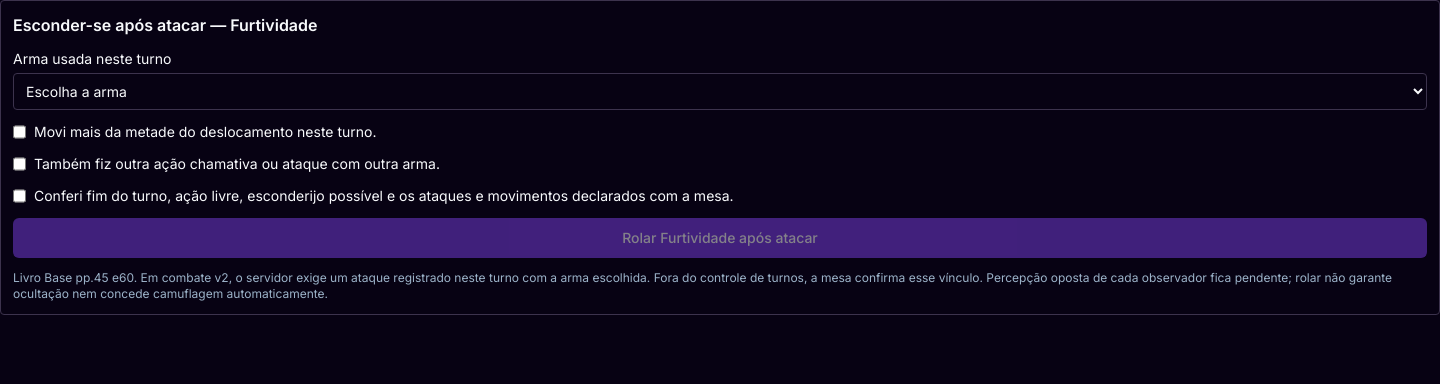
Test case: Furtividade após ataque › mudar contexto exige nova confirmação e não concede ocultação automática
Select "Pistola QA" in the dropdown labelled "Arma usada neste turno". click: coordinates (720, 92)
box: [13, 73, 1427, 110]
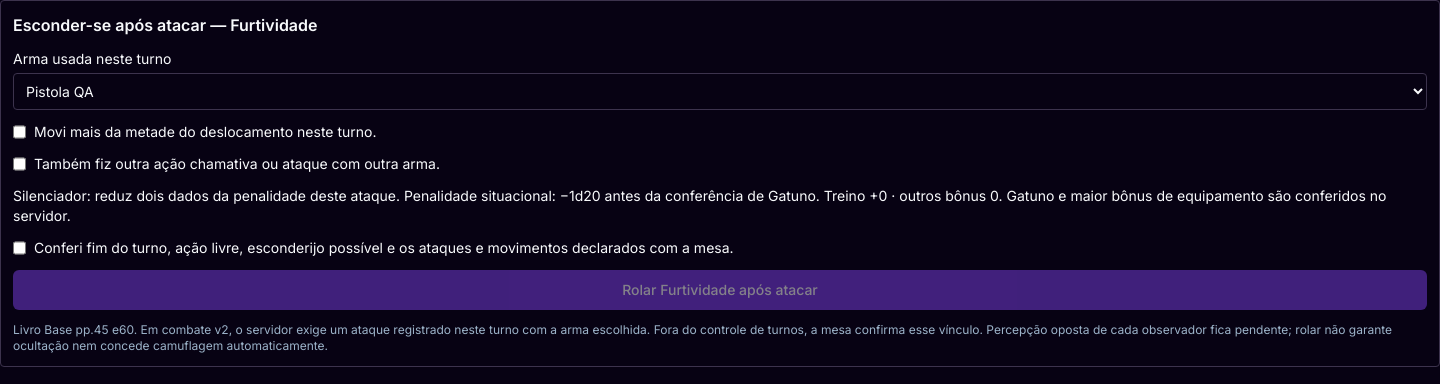
Click the checkbox named "Conferi fim do turno, ação livre, esconderijo possível e os ataques e movimentos declarados com a mesa.". click: coordinates (20, 248)
box: [13, 238, 26, 258]
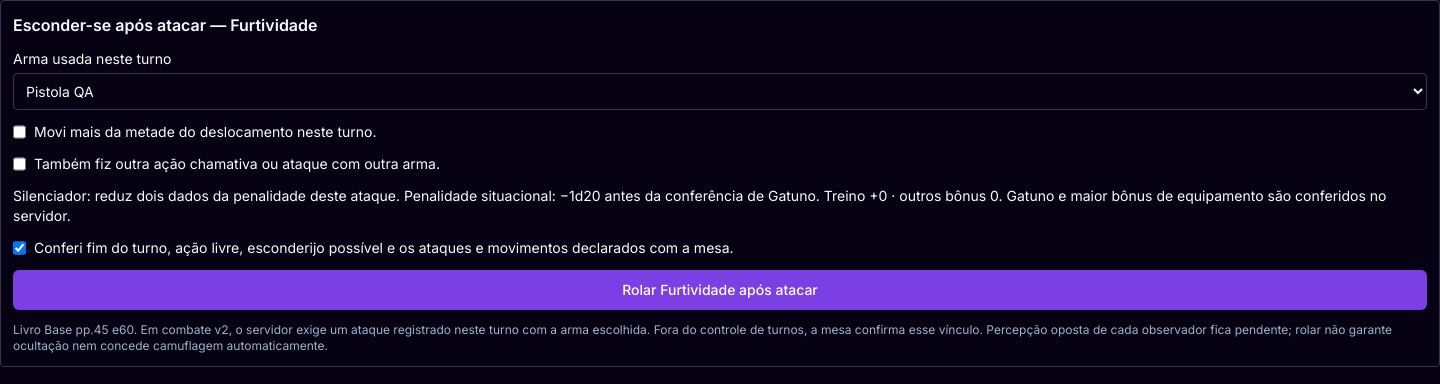
Click the checkbox labelled "Também fiz outra ação chamativa ou ataque com outra arma.". click: coordinates (20, 164)
box: [13, 154, 26, 174]
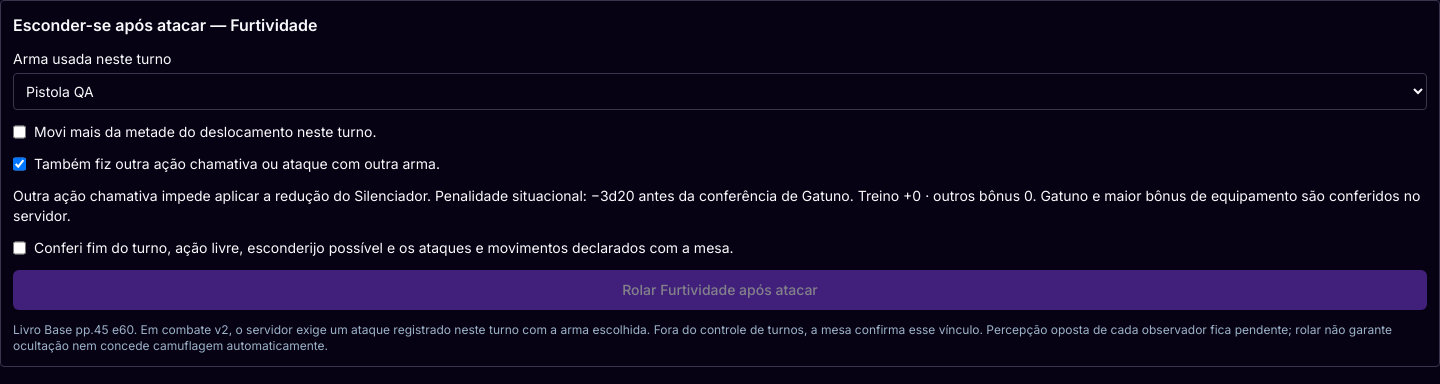
Result: the button "Rolar Furtividade após atacar" is disabled at [13, 270, 1427, 310]
Result: the text "Penalidade situacional: −3d20" is shown at [13, 186, 1427, 226]
Result: the text "Outra ação chamativa impede aplicar a redução do Silenciador" is shown at [13, 187, 431, 204]
